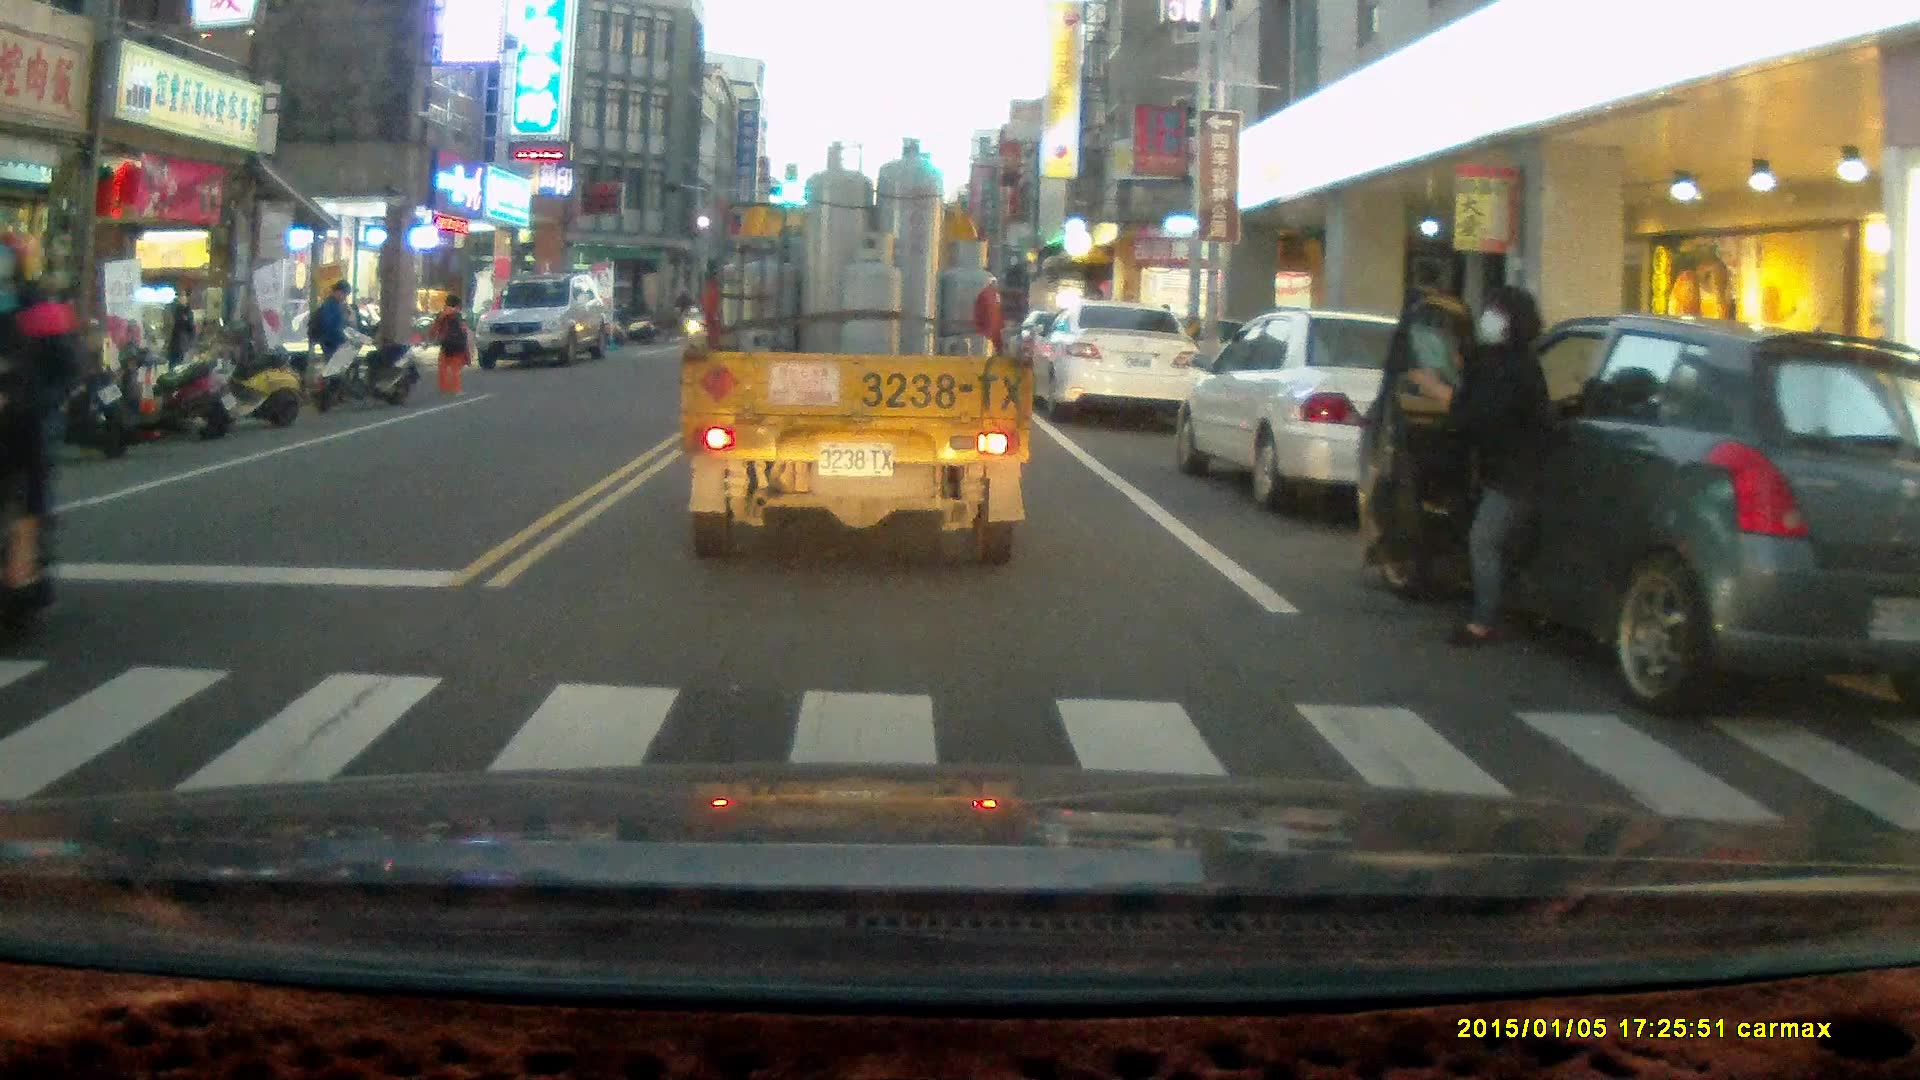pedestrian: (1411, 286, 1567, 651), (411, 290, 474, 392), (306, 278, 352, 399), (158, 285, 196, 403)
rider: (0, 220, 90, 645)
vehicle: (1369, 317, 1920, 715), (677, 133, 1039, 568), (1187, 314, 1525, 516), (1033, 300, 1209, 424), (475, 281, 611, 369)
